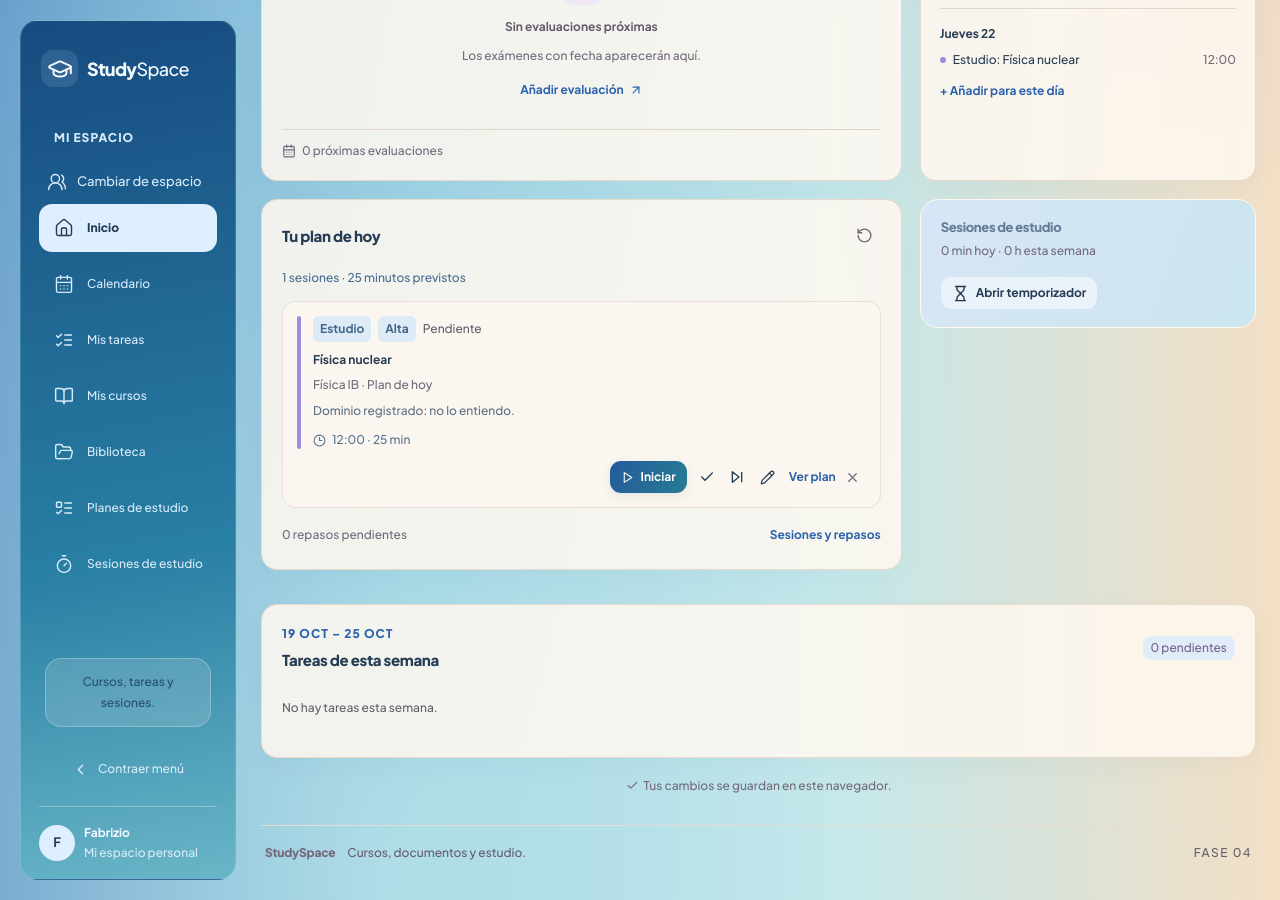
Test: Fase 2: recorridos de estudio › muestra recomendaciones del día y permite reprogramar duración y fecha sin duplicar
(page scrolled)
Expected: the heading "Tu plan de hoy" is shown, [282,225,380,247]
Expected: the text "Dominio registrado: no lo entiendo." is shown, [313,404,515,418]
Click the button named "Posponer sesión Física nuclear". click: [737, 477]
box: [724,463,751,492]
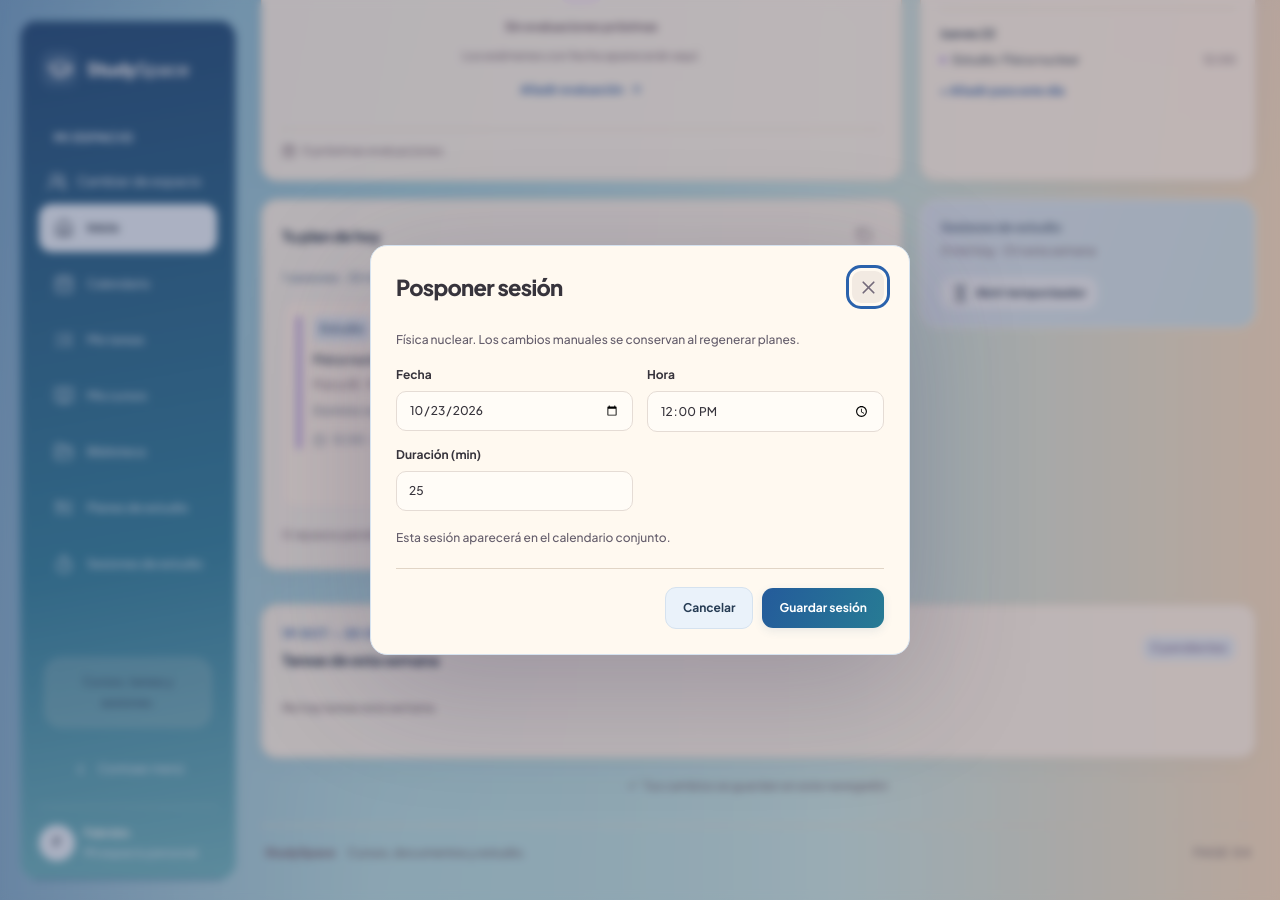
Replace the text in the time field labelled "Hora" with "10:00". click: [766, 412]
box: [647,391,884,432]
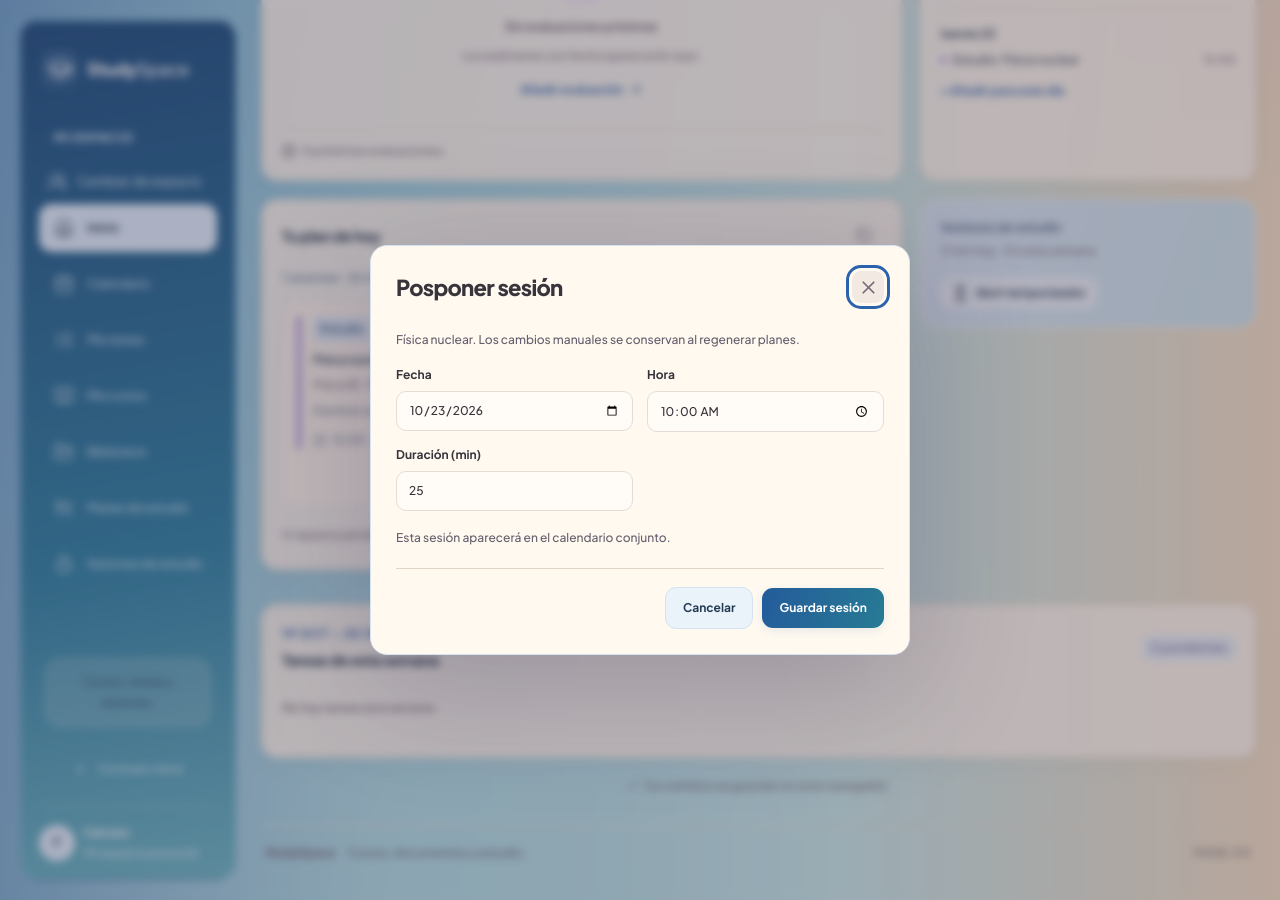
Replace the text in the number field labelled "Duración (min)" with "30". click: [514, 491]
box: [396,471,633,511]
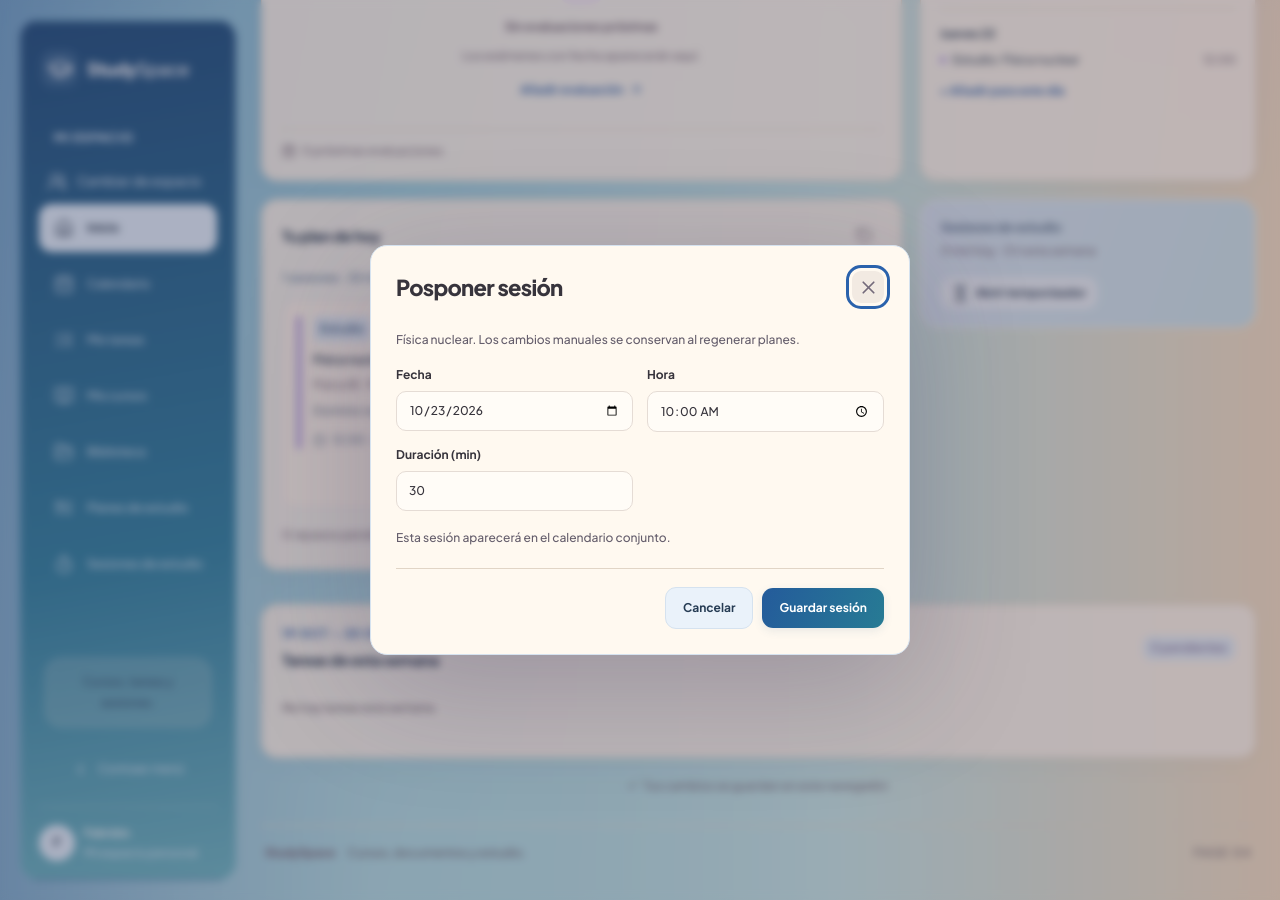
Click the button "Guardar sesión". click: [823, 608]
box: [762,588,884,628]
(page scrolled)
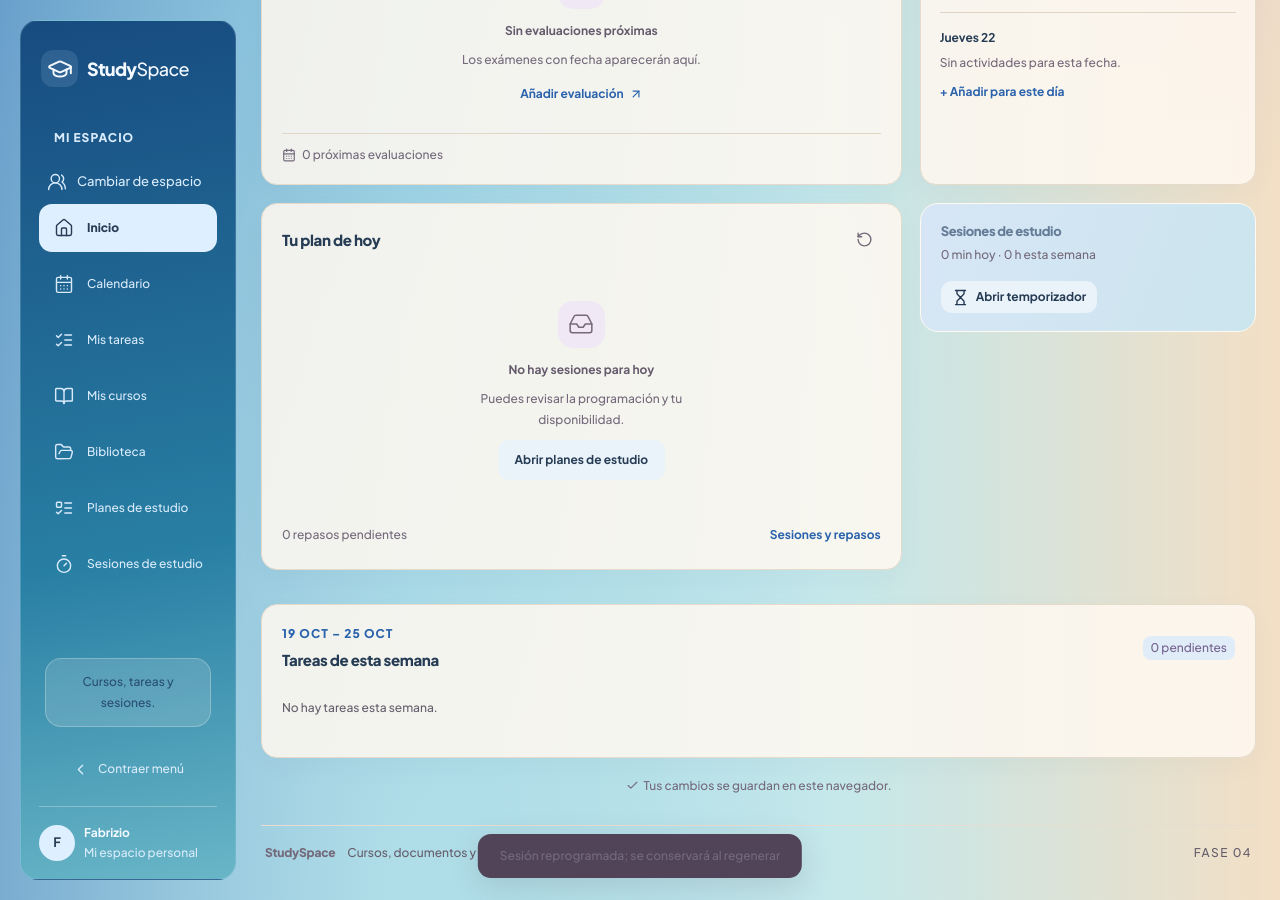
Result: the text "No hay sesiones para hoy" is shown at [508,361,654,379]
